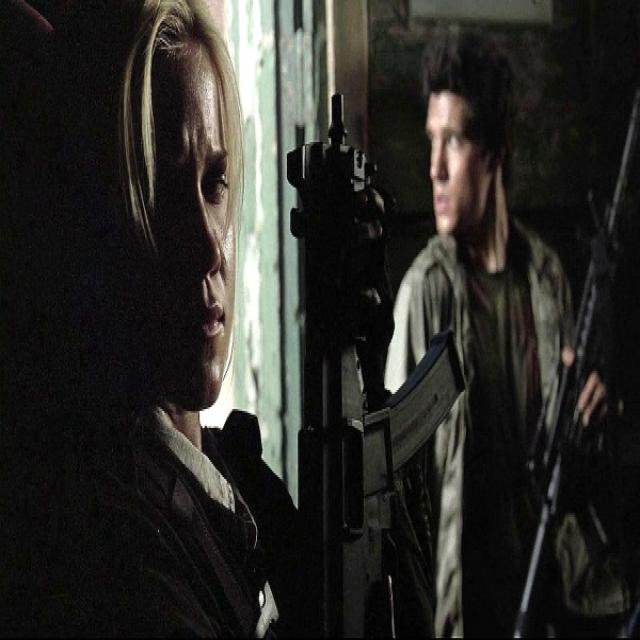rifle: (275, 92, 475, 640), (504, 80, 640, 640)
